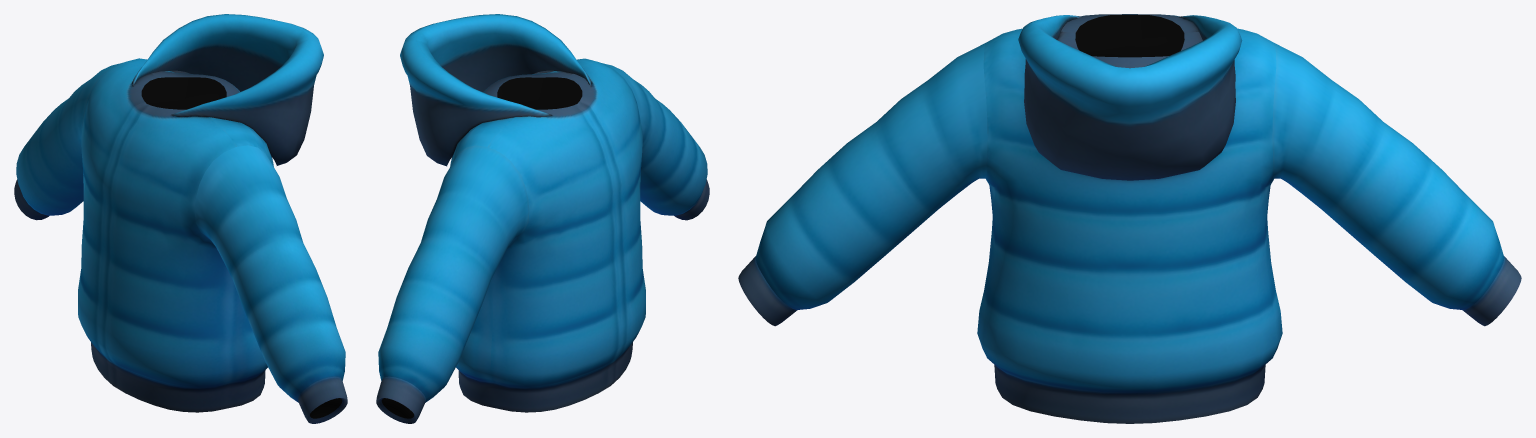
Rendered from winter_clothes.gltf.
3 renders of one model, left to right at view 1: azimuth 30°, elevation 25°; view 2: azimuth 150°, elevation 25°; view 3: azimuth 270°, elevation 25°, orthographic. The views are drawn at different scales.
Parts seen in each view (by area): view 1: winter coat; view 2: winter coat; view 3: winter coat.
Part boxes in pixels (bbox=[...]): winter coat: bbox=[14, 14, 347, 423]; winter coat: bbox=[376, 14, 709, 423]; winter coat: bbox=[738, 14, 1521, 423].
Size of the model in its own units: 0.2328 by 0.3223 by 0.5787.
1 material, 1 textured.
